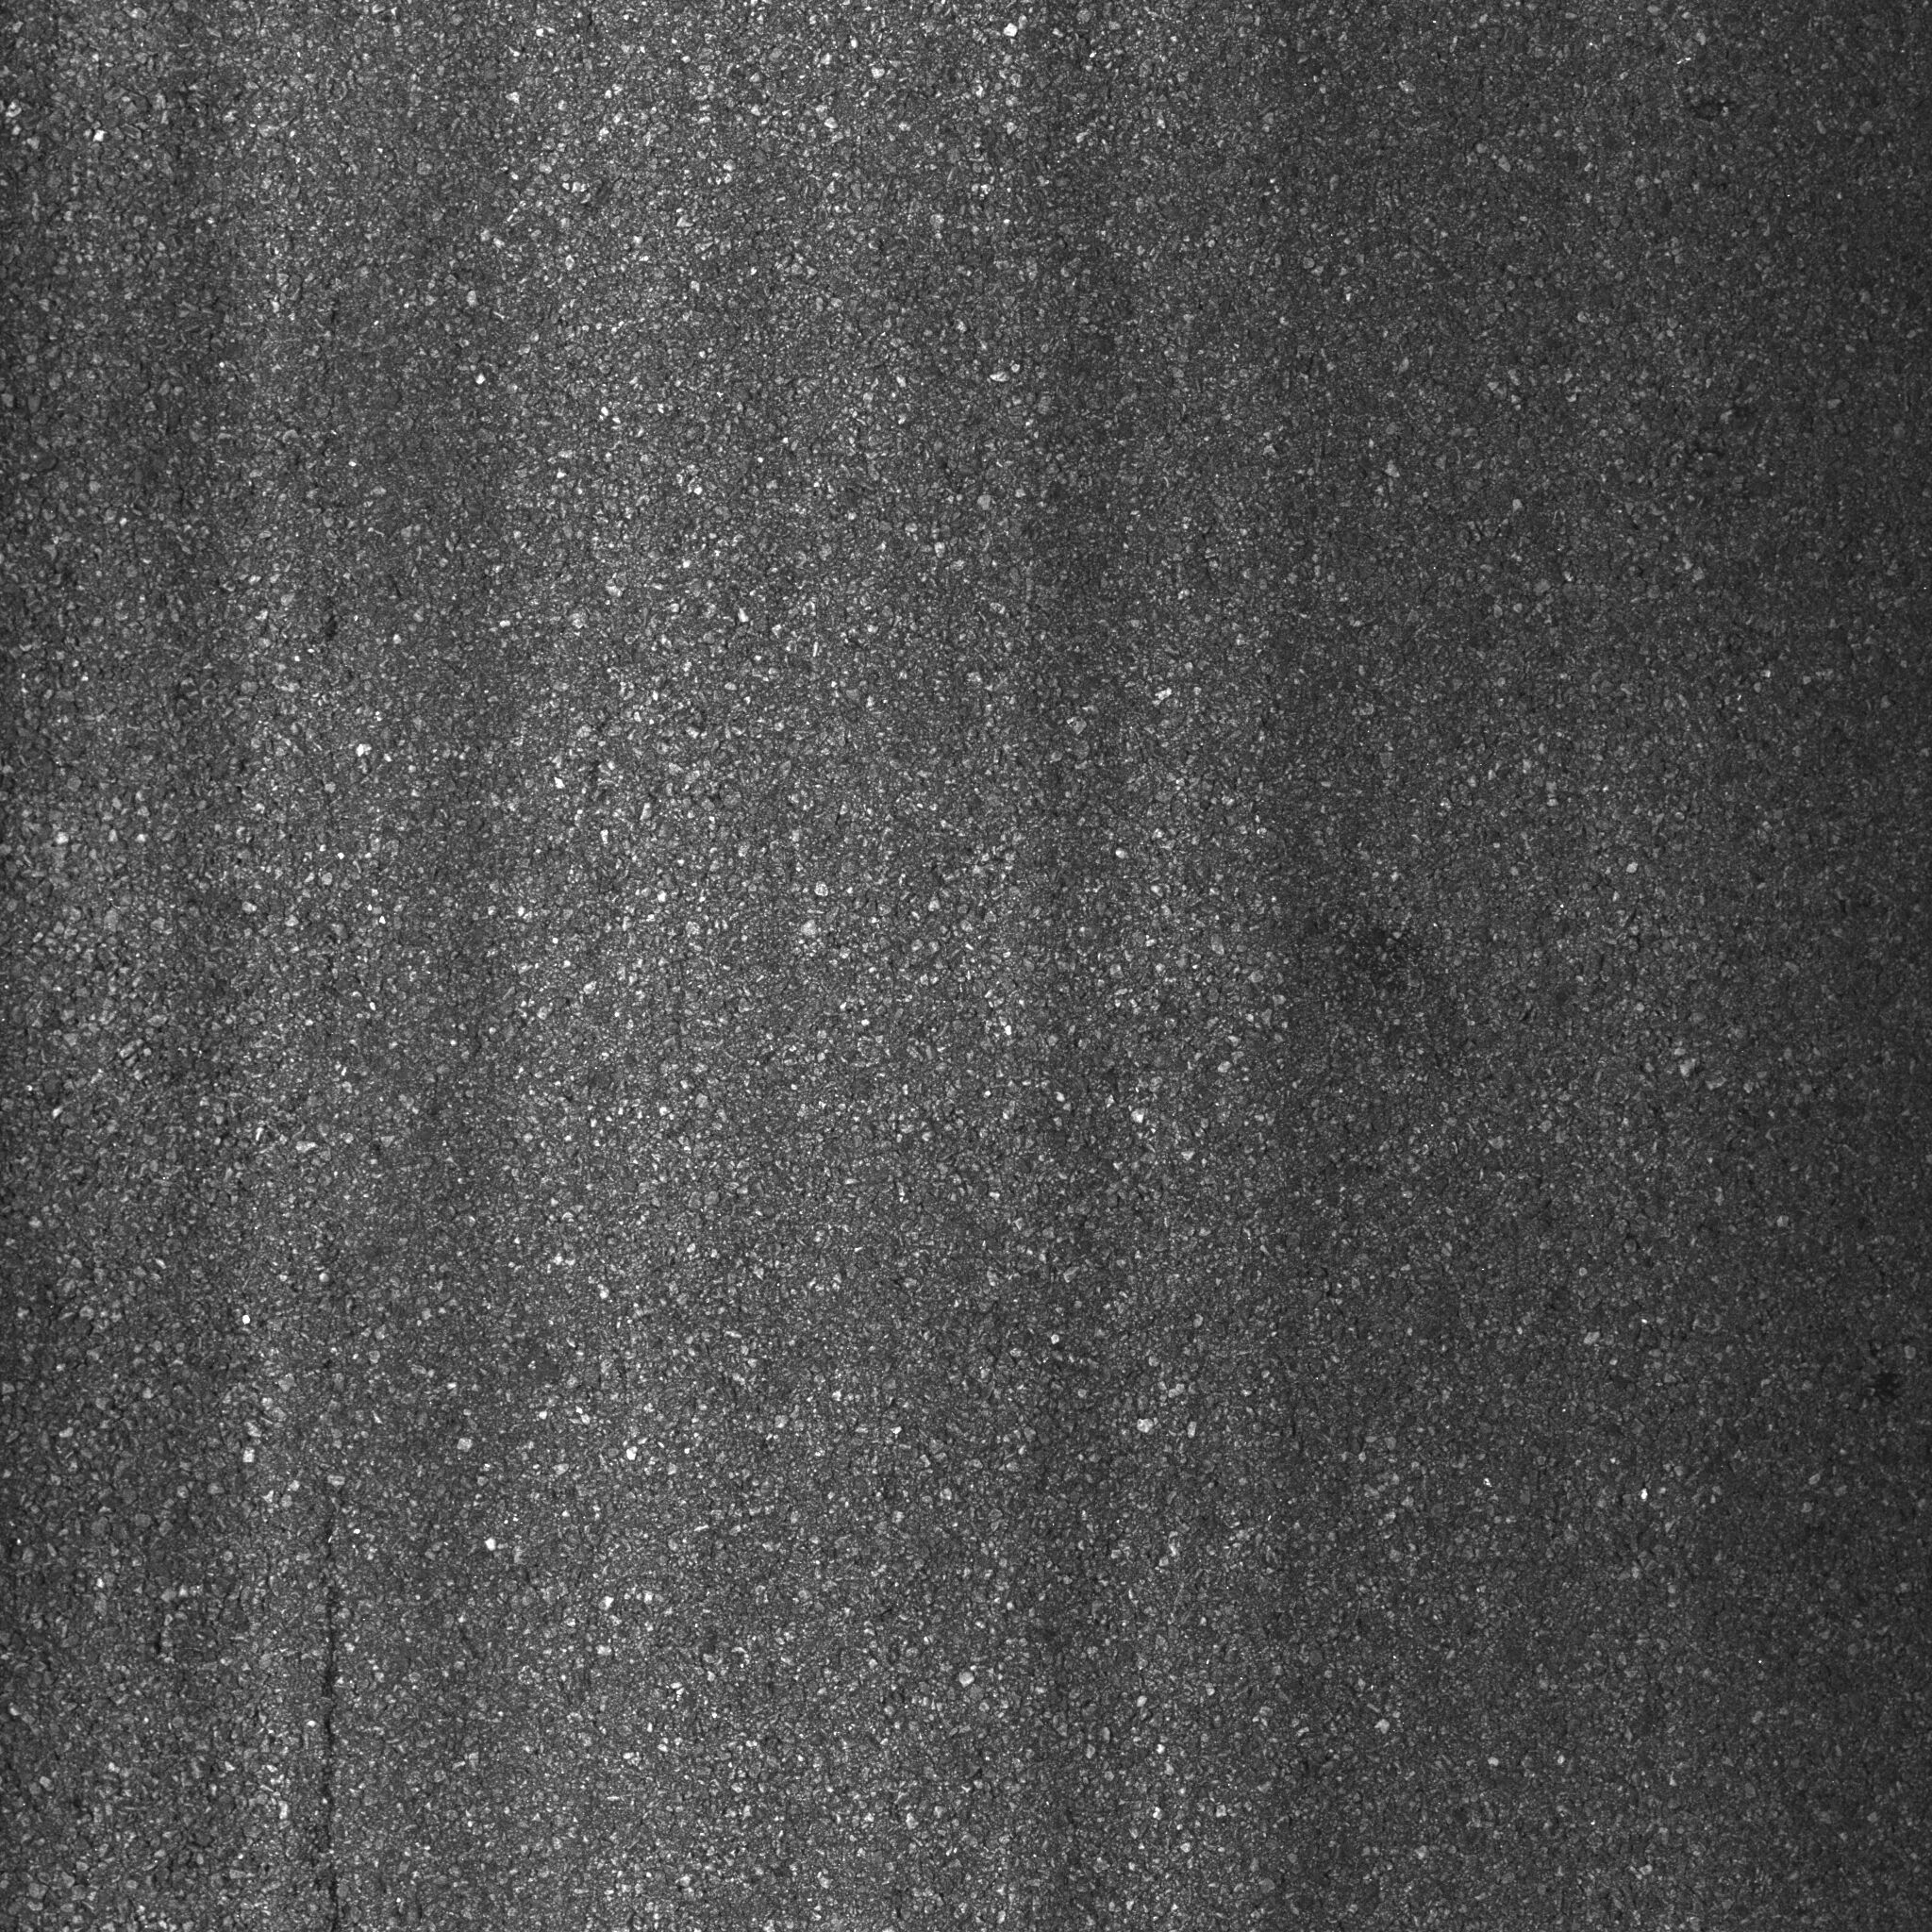longitudinal: (280, 1224, 391, 1925)
